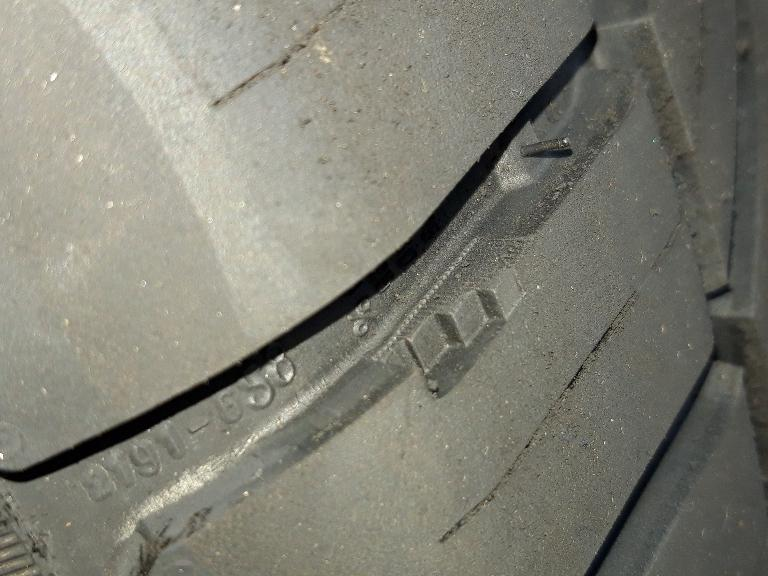temoin:75: (362, 262, 532, 406)
